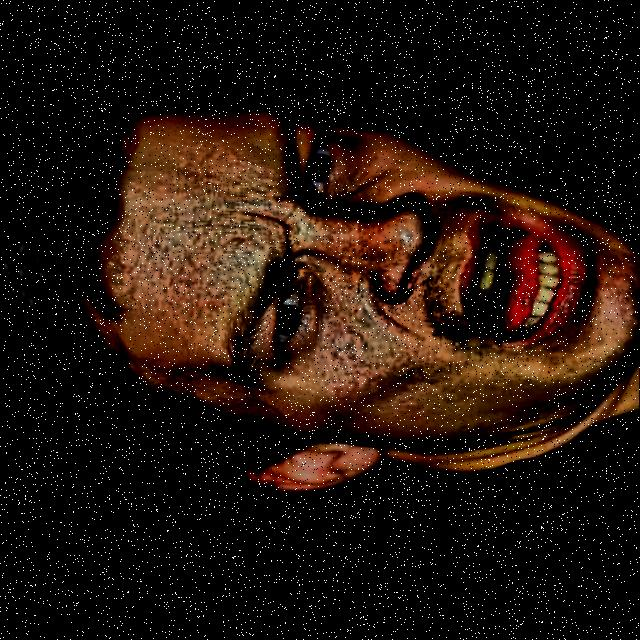angry: (7, 78, 640, 519)
